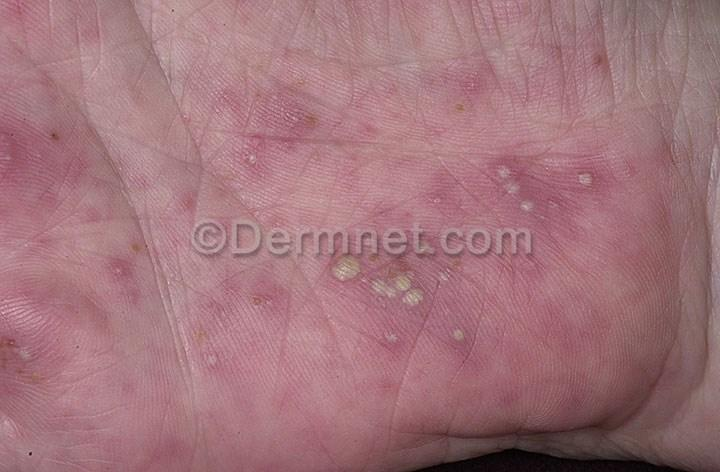Eczema: (491, 191, 595, 253), (10, 149, 104, 215), (115, 231, 199, 296), (7, 357, 69, 445), (465, 156, 558, 213), (5, 306, 67, 390), (88, 262, 163, 326), (208, 129, 281, 192), (88, 360, 160, 423), (24, 262, 96, 322), (98, 173, 181, 224), (346, 75, 429, 126), (264, 92, 317, 171), (580, 330, 675, 372), (176, 329, 252, 380), (475, 245, 564, 287), (69, 207, 136, 262), (605, 144, 659, 212), (35, 117, 106, 168), (434, 66, 507, 114), (363, 266, 425, 322), (312, 236, 368, 295), (58, 376, 101, 452), (241, 277, 307, 325), (181, 386, 244, 436), (57, 15, 124, 62), (309, 324, 376, 371), (549, 275, 615, 322), (517, 300, 575, 353), (530, 366, 597, 410), (170, 190, 231, 238), (127, 424, 186, 472), (257, 36, 315, 84), (27, 67, 92, 109), (473, 314, 522, 369), (663, 132, 705, 195), (21, 204, 53, 285), (471, 375, 534, 416), (151, 52, 216, 91), (602, 358, 649, 411), (151, 99, 204, 145), (283, 373, 347, 410), (378, 317, 428, 364), (629, 285, 685, 326), (609, 225, 659, 270), (560, 163, 611, 207), (354, 105, 400, 153), (366, 362, 405, 418), (287, 417, 355, 449), (661, 20, 709, 65), (380, 18, 431, 60), (376, 146, 438, 180), (318, 144, 366, 186), (415, 399, 459, 444), (0, 103, 38, 155), (578, 44, 617, 93), (366, 196, 412, 237), (427, 174, 469, 218), (3, 0, 44, 45), (200, 75, 245, 116), (418, 260, 458, 302), (539, 32, 579, 73), (253, 440, 304, 470), (685, 390, 714, 442), (340, 448, 417, 467), (433, 311, 466, 347), (409, 362, 445, 395), (225, 0, 259, 31)
